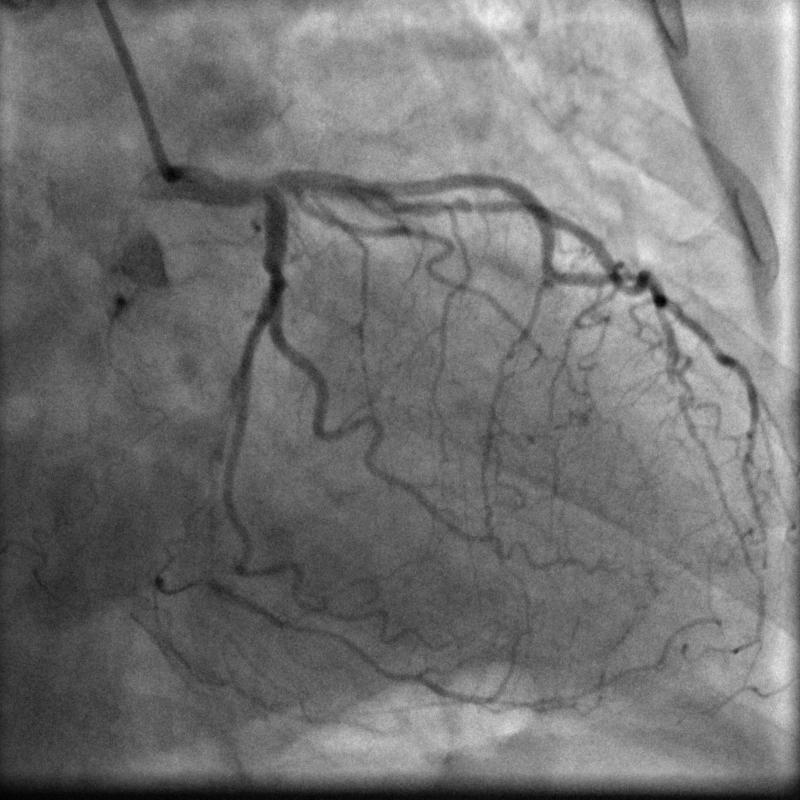Stenosis: (428, 190, 508, 217)
